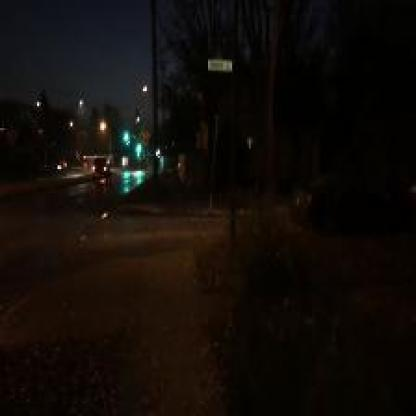other: (73, 107, 108, 138)
